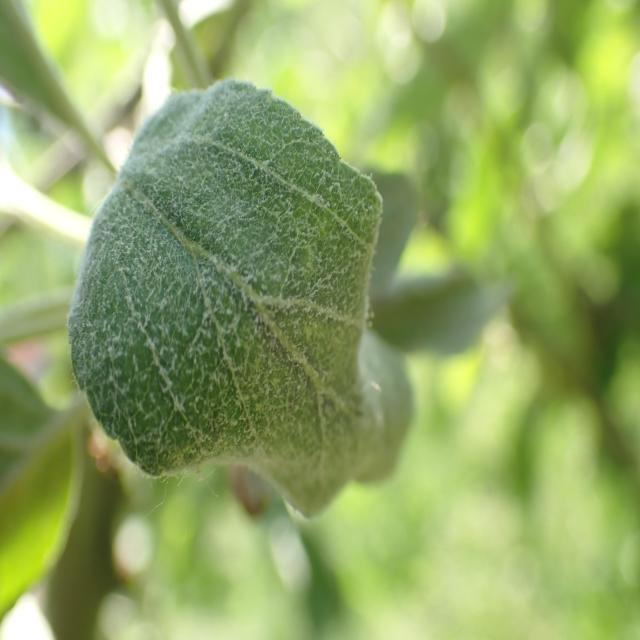Powdery_mildew: (74, 78, 429, 532)
